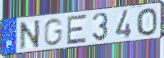3: (91, 12, 109, 42)
4: (114, 8, 133, 41)
E: (66, 13, 89, 46)
G: (43, 17, 65, 47)
N: (18, 19, 41, 51)
O: (136, 7, 159, 37)
